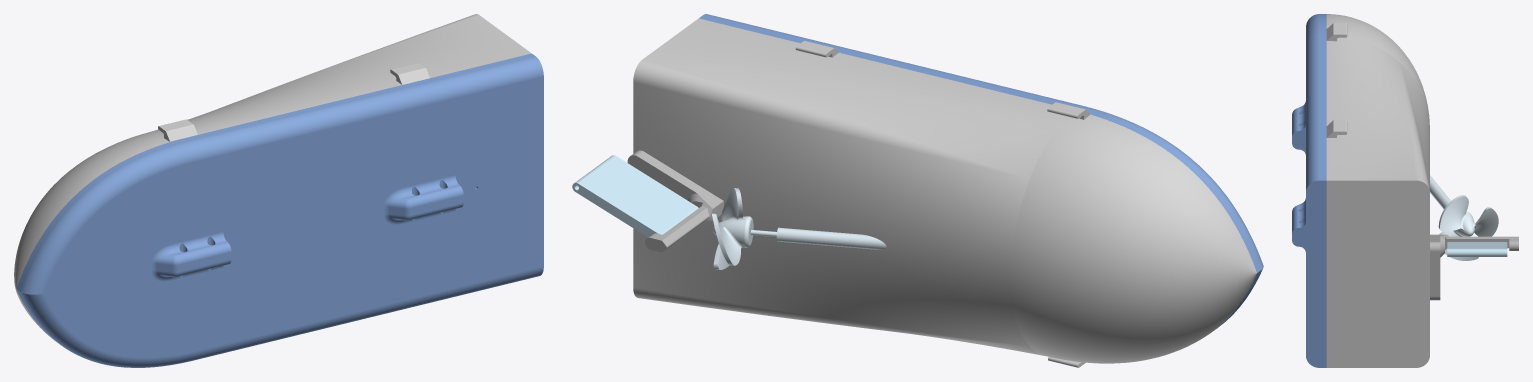
File: boat.gltf
3 renders of one model, left to right at view 1: azimuth 30°, elevation 25°; view 2: azimuth 150°, elevation 25°; view 3: azimuth 270°, elevation 25°, orthographic. The views are drawn at different scales.
Visible parts, largest first — view 1: Part 1, Part 7; view 2: Part 7, Part 6, Part 1, Part 4, Part 2, Part 3; view 3: Part 7, Part 1, Part 2, Part 4, Part 6, Part 3.
Part boxes in pixels (x1,y1,x2,y2): Part 1: (16,53,543,367); Part 7: (14,14,531,340); Part 7: (633,18,1256,367); Part 6: (572,155,698,237); Part 1: (699,14,1263,328); Part 4: (627,150,723,252); Part 2: (711,188,753,269); Part 3: (750,227,886,249); Part 7: (1326,14,1429,367); Part 1: (1292,14,1326,367); Part 2: (1438,195,1498,260); Part 4: (1430,234,1518,300); Part 6: (1447,242,1507,256); Part 3: (1430,175,1450,208).
Bounding box in the file's own units: 0.378 × 0.16 × 0.1645.
